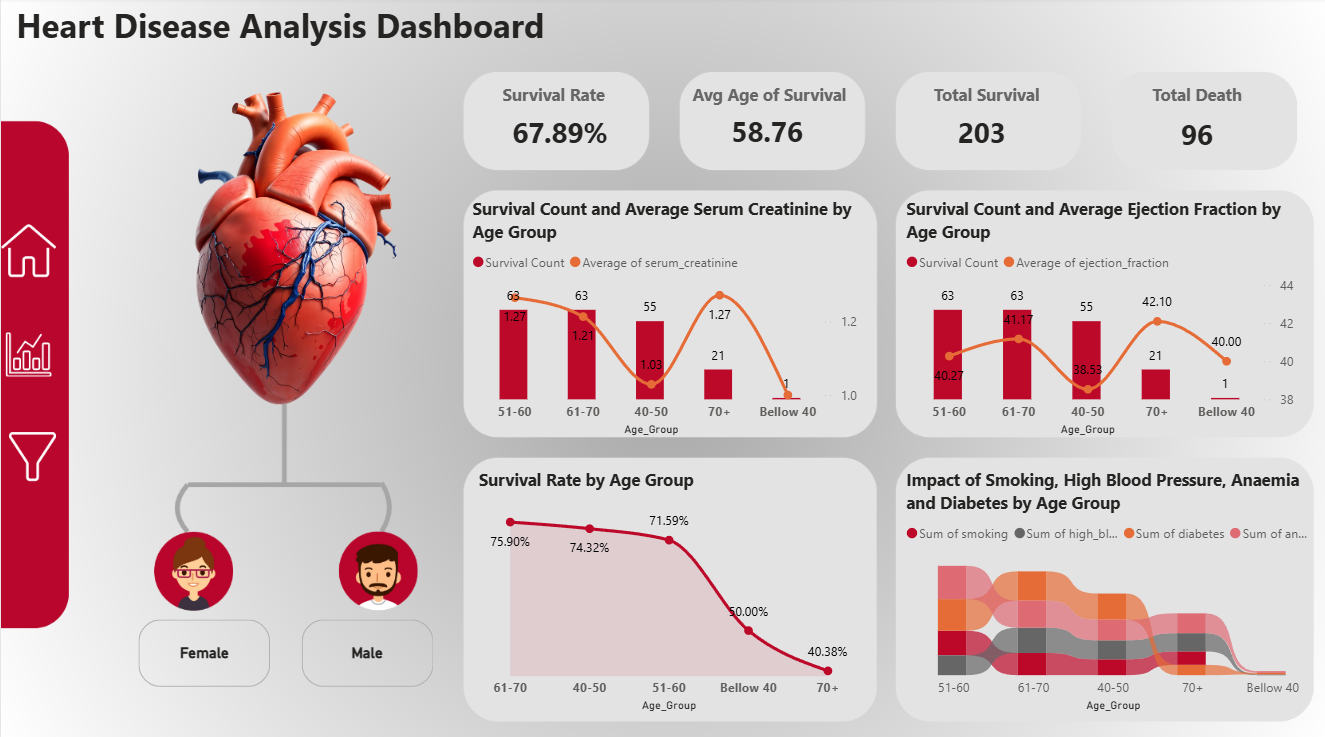

The dashboard page shown, as its layout file describes it:
{"tool":"powerbi","page":{"name":"Page 1","canvas":[1280,720],"ordinal":0},"visuals":[{"type":"textbox","box":[9.8,0,629.8,57.5],"z":0},{"type":"card","fields":{"Values":["heart_Disease_clinical_records_.Survival_Rate"]},"box":[447.1,57.4,183.8,148.5],"z":1000},{"type":"card","fields":{"Values":["heart_Disease_clinical_records_.Total_Death"]},"box":[1075,58.8,158.8,148.5],"z":2000},{"type":"card","fields":{"Values":["heart_Disease_clinical_records_.Total_Surviour"]},"box":[854.4,57.4,185.3,148.5],"z":3000},{"type":"card","fields":{"Values":["heart_Disease_clinical_records_.Average_Age_Survival"]},"box":[645.6,55.9,188.2,150],"z":4000},{"type":"textbox","box":[479.4,77.9,119.1,39.7],"z":5000},{"type":"textbox","box":[661.8,77.9,172.1,54.4],"z":6000},{"type":"textbox","box":[895.6,77.9,144.1,54.4],"z":7000},{"type":"textbox","box":[1075,77.9,158.8,39.7],"z":8000},{"type":"lineClusteredColumnComboChart","title":"Survival Count and Average Serum Creatinine by Age Group","fields":{"Category":["heart_Disease_clinical_records_.Age_Group"],"Y":["CountNonNull(heart_Disease_clinical_records_.DEATH_EVENT)"],"Y2":["Avg(heart_Disease_clinical_records_.serum_creatinine)"]},"box":[450,192.6,383.8,235.3],"z":9000},{"type":"lineClusteredColumnComboChart","title":"Survival Count and Average Ejection Fraction by Age Group","fields":{"Category":["heart_Disease_clinical_records_.Age_Group"],"Y":["CountNonNull(heart_Disease_clinical_records_.DEATH_EVENT)"],"Y2":["Avg(heart_Disease_clinical_records_.ejection_fraction)"]},"box":[869.1,192.6,385.3,235.3],"z":10000},{"type":"lineChart","title":"Survival Rate by Age Group","fields":{"Category":["heart_Disease_clinical_records_.Age_Group"],"Y":["heart_Disease_clinical_records_.Survival_Rate"]},"box":[455.9,454.4,377.9,239.7],"z":11000},{"type":"ribbonChart","title":"Impact of Smoking, High Blood Pressure, Anaemia and Diabetes by Age Group","fields":{"Category":["heart_Disease_clinical_records_.Age_Group"],"Y":["Sum(heart_Disease_clinical_records_.smoking)","Sum(heart_Disease_clinical_records_.high_blood_pressure)","Sum(heart_Disease_clinical_records_.diabetes)","Sum(heart_Disease_clinical_records_.anaemia)"]},"box":[869.1,454.4,410.3,239.7],"z":12000},{"type":"advancedSlicerVisual","fields":{"Values":["heart_Disease_clinical_records_.Gender"]},"box":[127.9,595.6,295.6,75],"z":13000}]}

Visuals, with their boxes in screenshot pixels (x1, y1, x2, y2), scaled from the page's 1280x720 canvas onto the 1325x737 screenshot:
textbox: (left=10, top=0, right=662, bottom=59)
card - heart_Disease_clinical_records_.Survival_Rate: (left=463, top=59, right=653, bottom=211)
card - heart_Disease_clinical_records_.Total_Death: (left=1113, top=60, right=1277, bottom=212)
card - heart_Disease_clinical_records_.Total_Surviour: (left=884, top=59, right=1076, bottom=211)
card - heart_Disease_clinical_records_.Average_Age_Survival: (left=668, top=57, right=863, bottom=211)
textbox: (left=496, top=80, right=620, bottom=120)
textbox: (left=685, top=80, right=863, bottom=135)
textbox: (left=927, top=80, right=1076, bottom=135)
textbox: (left=1113, top=80, right=1277, bottom=120)
"Survival Count and Average Serum Creatinine by Age Group" lineClusteredColumnComboChart: (left=466, top=197, right=863, bottom=438)
"Survival Count and Average Ejection Fraction by Age Group" lineClusteredColumnComboChart: (left=900, top=197, right=1298, bottom=438)
"Survival Rate by Age Group" lineChart: (left=472, top=465, right=863, bottom=710)
"Impact of Smoking, High Blood Pressure, Anaemia and Diabetes by Age Group" ribbonChart: (left=900, top=465, right=1324, bottom=710)
advancedSlicerVisual - heart_Disease_clinical_records_.Gender: (left=132, top=610, right=438, bottom=686)
